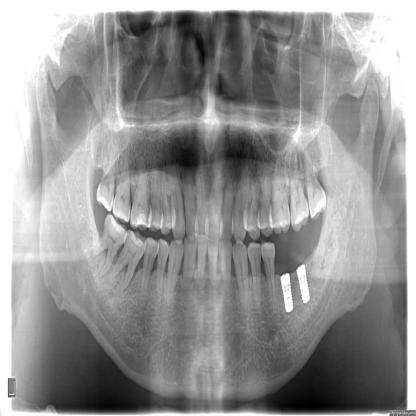ITI: (277, 266, 297, 312), (294, 261, 312, 307)
